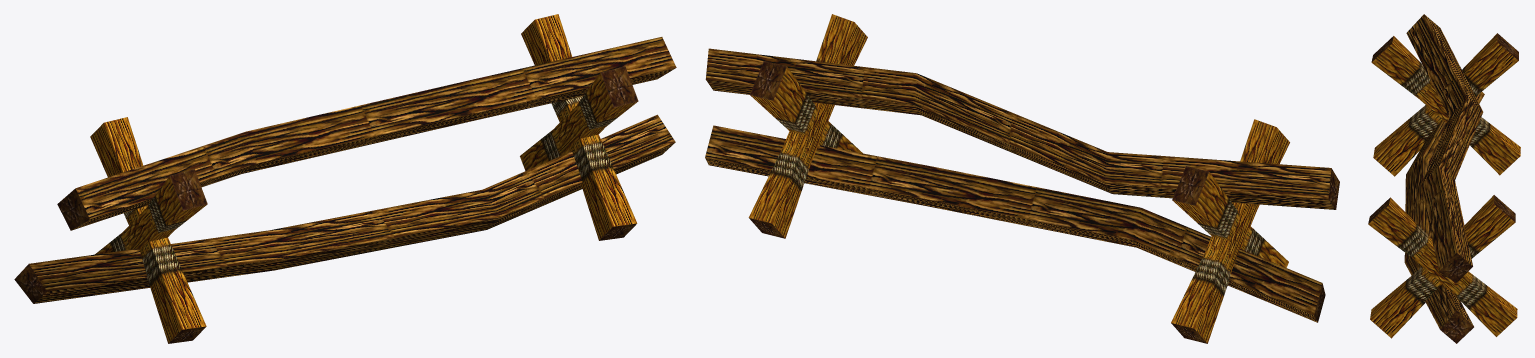
Rendered from CB_BARACADE01.obj.
The picture shows the model from 3 angles, left to right: view 1: azimuth 30°, elevation 25°; view 2: azimuth 150°, elevation 25°; view 3: azimuth 270°, elevation 25°; orthographic projection. The views are drawn at different scales.
Visible parts, largest first — view 1: CB_baracade01; view 2: CB_baracade01; view 3: CB_baracade01.
Boxes of the visible parts, x1=… form: CB_baracade01: x1=14, y1=14, x2=676, y2=343; CB_baracade01: x1=705, y1=14, x2=1339, y2=343; CB_baracade01: x1=1368, y1=14, x2=1520, y2=343.
Size of the model in its own units: 621 by 164 by 168.
